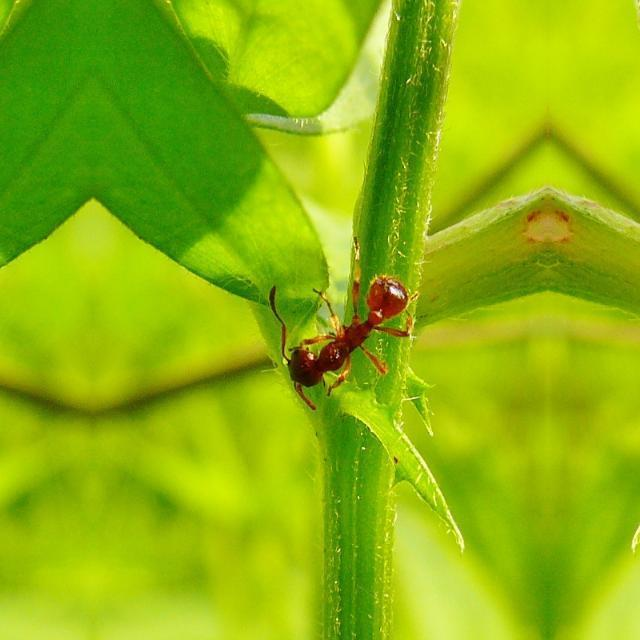Myrmica: (272, 262, 428, 400)
